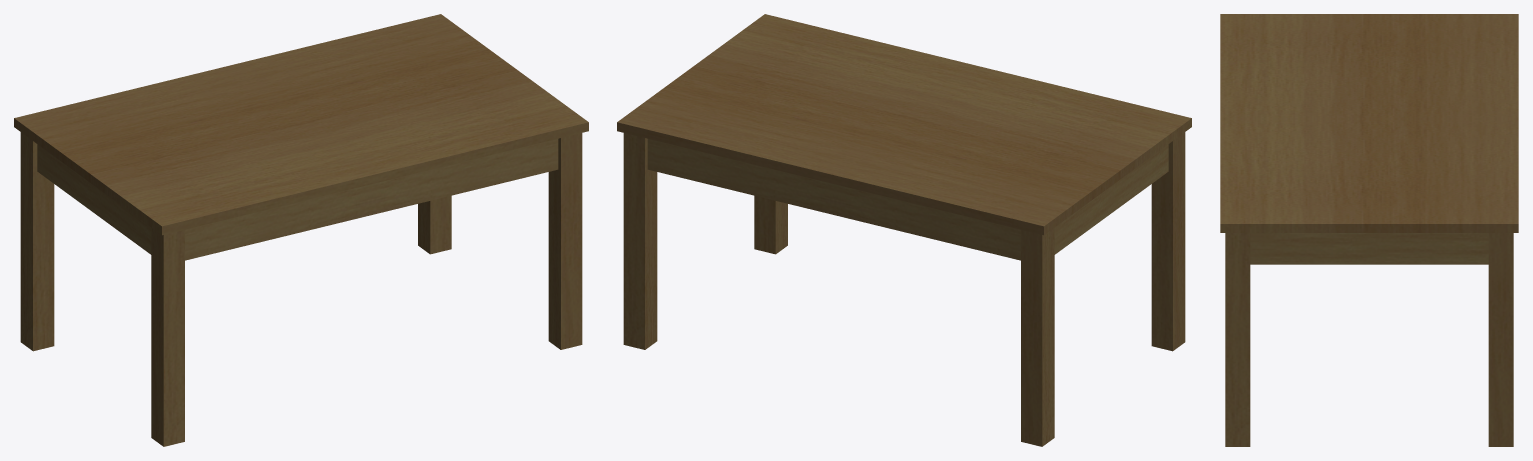
File: table.fbx
3 views of the same model, side by side, from view 1: azimuth 30°, elevation 25°; view 2: azimuth 150°, elevation 25°; view 3: azimuth 270°, elevation 25° (orthographic).
Visible parts, largest first — view 1: tableA; view 2: tableA; view 3: tableA.
Part boxes in pixels (<box>): tableA: <box>14,14,588,446</box>; tableA: <box>617,14,1191,446</box>; tableA: <box>1220,14,1518,446</box>.
Size of the model in its own units: 10 by 5 by 6.
Materials: 1 (1 with a texture image).
